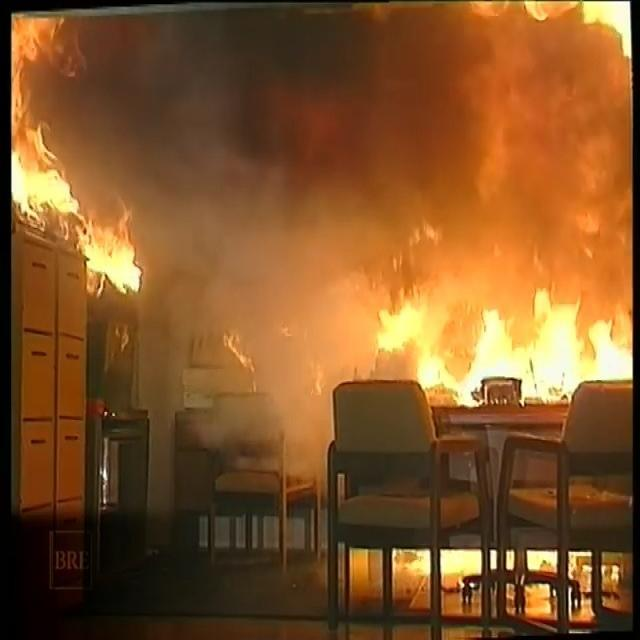Fire: (6, 13, 640, 418)
